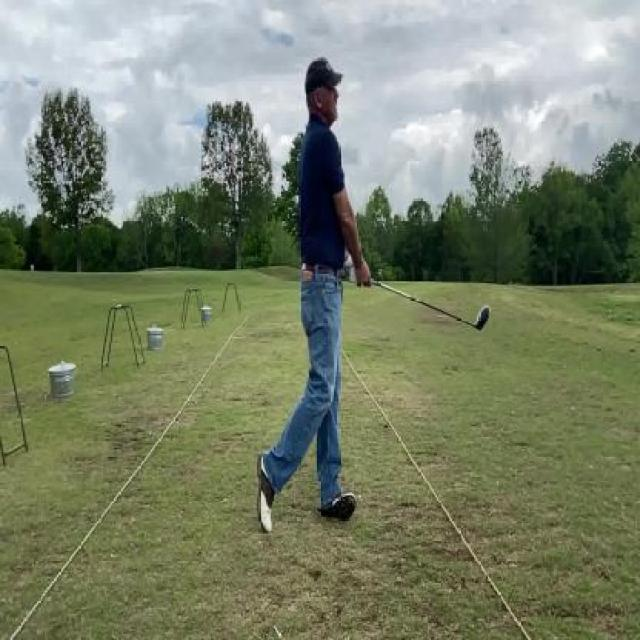club head: (469, 305, 491, 332)
